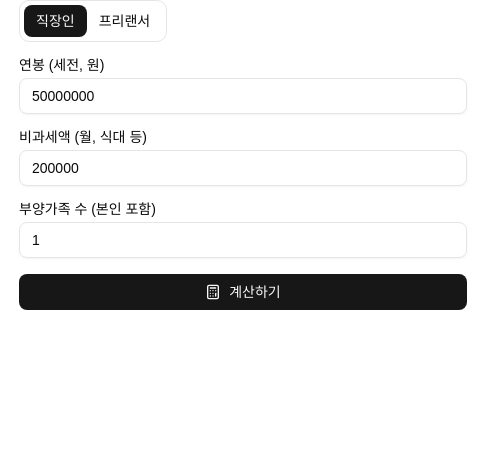
Test: TaxCalculator › switches to 프리랜서 mode and computes the 3.3% deduction
Click the button "프리랜서" at (124, 21), box [87, 5, 162, 37]
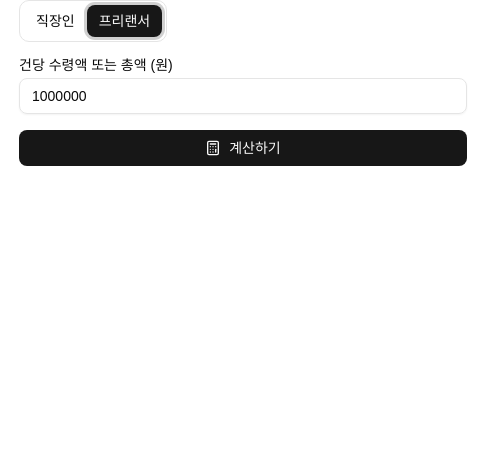
Click the button "계산하기" at (243, 148), box [19, 130, 467, 166]
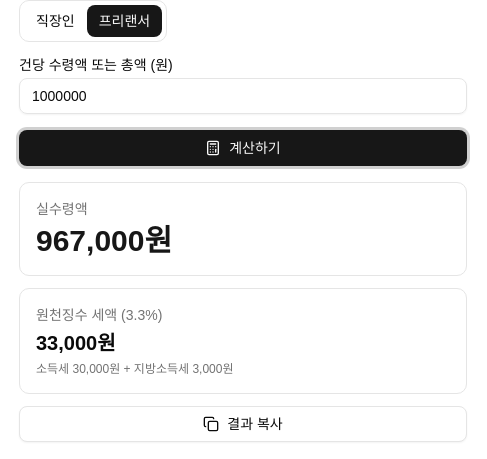
Check: the text "실수령액" is shown, box [36, 201, 88, 217]
Check: the text "967,000원" is shown, box [36, 224, 172, 257]
Check: the text "33,000원" is shown, box [36, 332, 116, 354]
